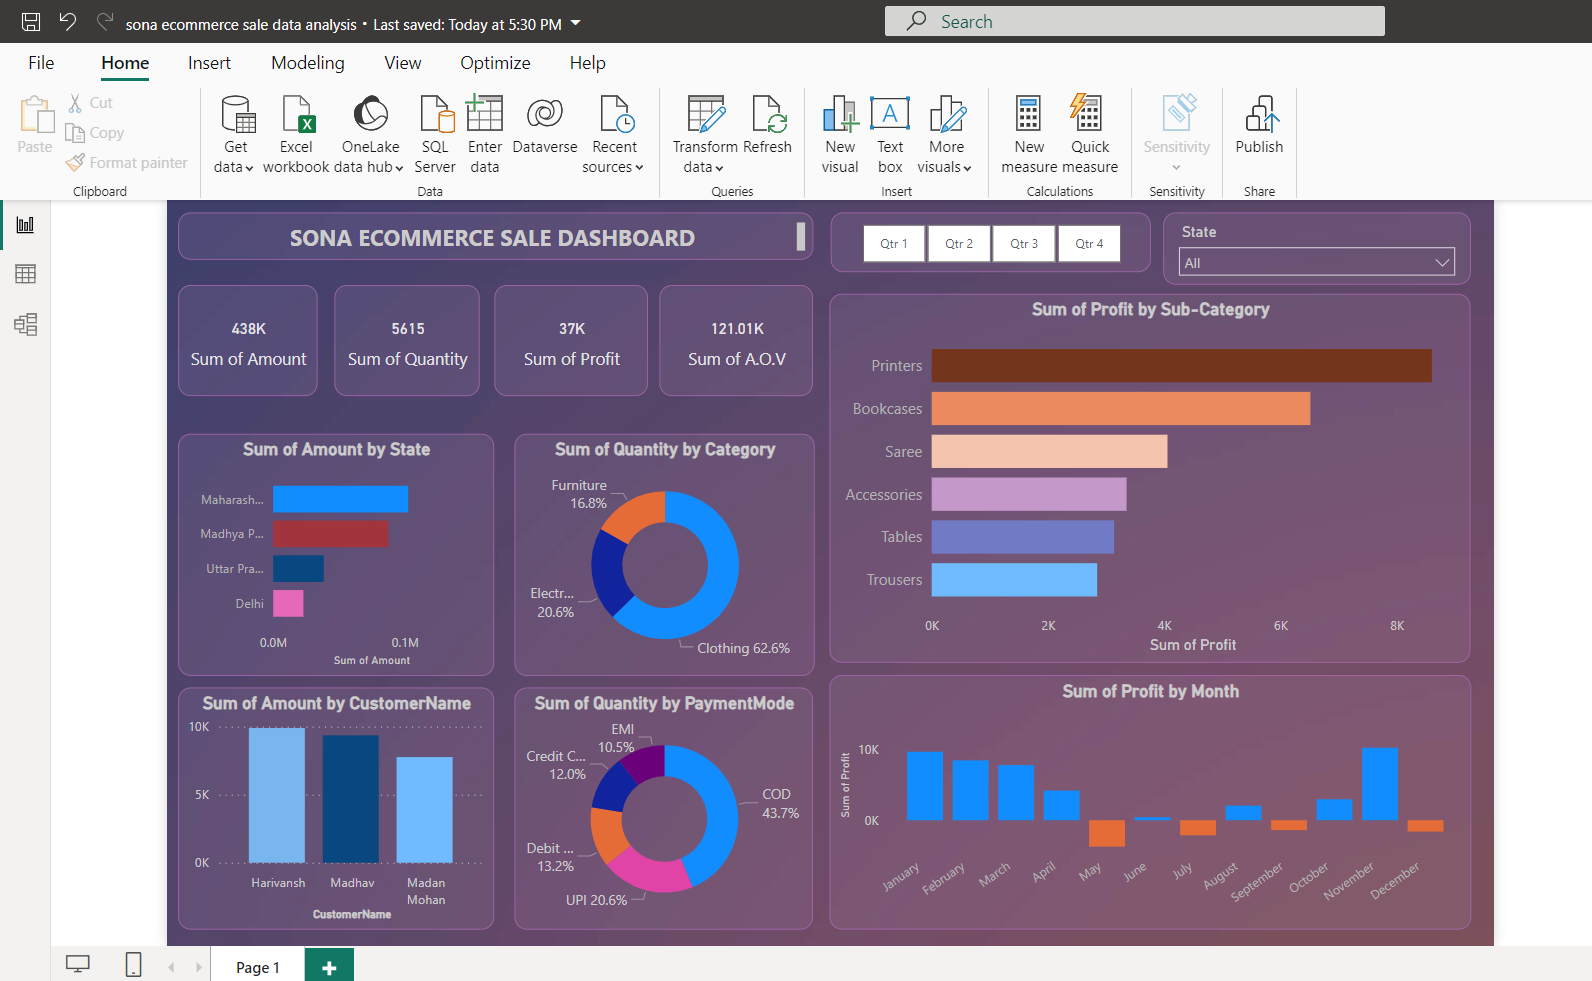

The page's visual inventory and layout, read from the dashboard file:
{"tool":"powerbi","page":{"name":"Page 1","canvas":[1280,720],"ordinal":0},"visuals":[{"type":"textbox","box":[10.9,12.1,612.7,45.8],"z":0},{"type":"columnChart","fields":{"Category":["Orders.Order Date.Variation.Date Hierarchy.Month"],"Y":["Details.Profit"]},"box":[639.5,458.3,618.9,245.6],"z":1000},{"type":"barChart","fields":{"Category":["Details.Sub-Category"],"Y":["Details.Profit"]},"box":[639.2,90.5,618.7,355.8],"z":2000},{"type":"donutChart","fields":{"Category":["Details.Category"],"Y":["Details.Quantity"]},"box":[334.8,225,289.5,233.3],"z":3000},{"type":"donutChart","fields":{"Category":["Details.PaymentMode"],"Y":["Details.Quantity"]},"box":[334.8,470.7,288.2,233.3],"z":4000},{"type":"card","fields":{"Values":["Details.Amount"]},"box":[11,82.3,134.5,107],"z":5000},{"type":"card","fields":{"Values":["Details.Quantity"]},"box":[161.9,82.3,140,107],"z":6000},{"type":"card","fields":{"Values":["Details.Profit"]},"box":[315.6,82.3,148.2,107],"z":7000},{"type":"card","fields":{"Values":["Details.A.O.V"]},"box":[474.8,82.3,148.2,107],"z":8000},{"type":"barChart","fields":{"Category":["Orders.State"],"Y":["Details.Amount"]},"box":[11,225,304.6,233.3],"z":9000},{"type":"columnChart","fields":{"Y":["Details.Amount"],"Category":["Orders.CustomerName"]},"box":[11,470.7,304.6,233.3],"z":9001},{"type":"slicer","fields":{"Values":["Orders.Order Date.Variation.Date Hierarchy.Quarter"]},"box":[640.4,12.1,308.7,57.9],"z":9002},{"type":"slicer","fields":{"Values":["Orders.State"]},"box":[961.2,12.1,296.7,69.9],"z":9003}]}

Visuals, with their boxes on the page's 1280x720 design canvas (x1, y1, x2, y2). These are canvas units, not pixel positions in the 1592x981 screenshot, which may show the page scaled, cropped or inside an application window:
textbox: [left=11, top=12, right=624, bottom=58]
columnChart - Orders.Order Date.Variation.Date Hierarchy.Month x Details.Profit: [left=640, top=458, right=1258, bottom=704]
barChart - Details.Sub-Category x Details.Profit: [left=639, top=90, right=1258, bottom=446]
donutChart - Details.Category x Details.Quantity: [left=335, top=225, right=624, bottom=458]
donutChart - Details.PaymentMode x Details.Quantity: [left=335, top=471, right=623, bottom=704]
card - Details.Amount: [left=11, top=82, right=146, bottom=189]
card - Details.Quantity: [left=162, top=82, right=302, bottom=189]
card - Details.Profit: [left=316, top=82, right=464, bottom=189]
card - Details.A.O.V: [left=475, top=82, right=623, bottom=189]
barChart - Orders.State x Details.Amount: [left=11, top=225, right=316, bottom=458]
columnChart - Details.Amount x Orders.CustomerName: [left=11, top=471, right=316, bottom=704]
slicer - Orders.Order Date.Variation.Date Hierarchy.Quarter: [left=640, top=12, right=949, bottom=70]
slicer - Orders.State: [left=961, top=12, right=1258, bottom=82]
